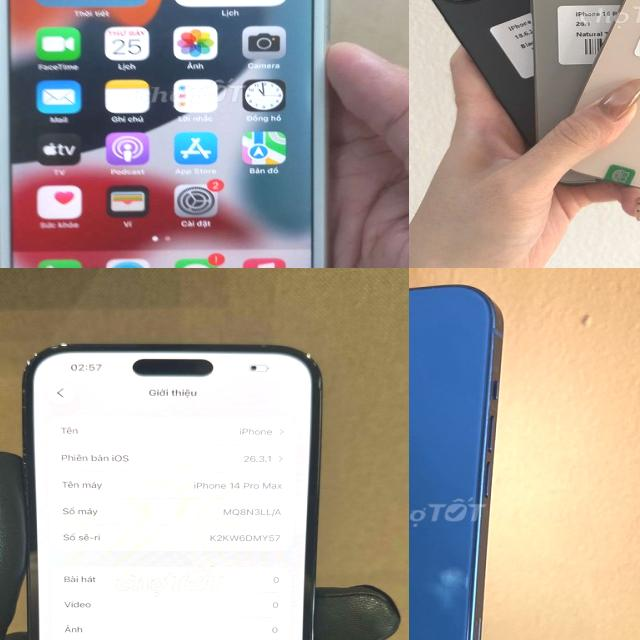gen_12_13: (409, 282, 505, 640)
gen_14: (3, 326, 321, 640)
gen_16: (561, 0, 640, 215)
gen_7_8: (0, 0, 353, 268)
